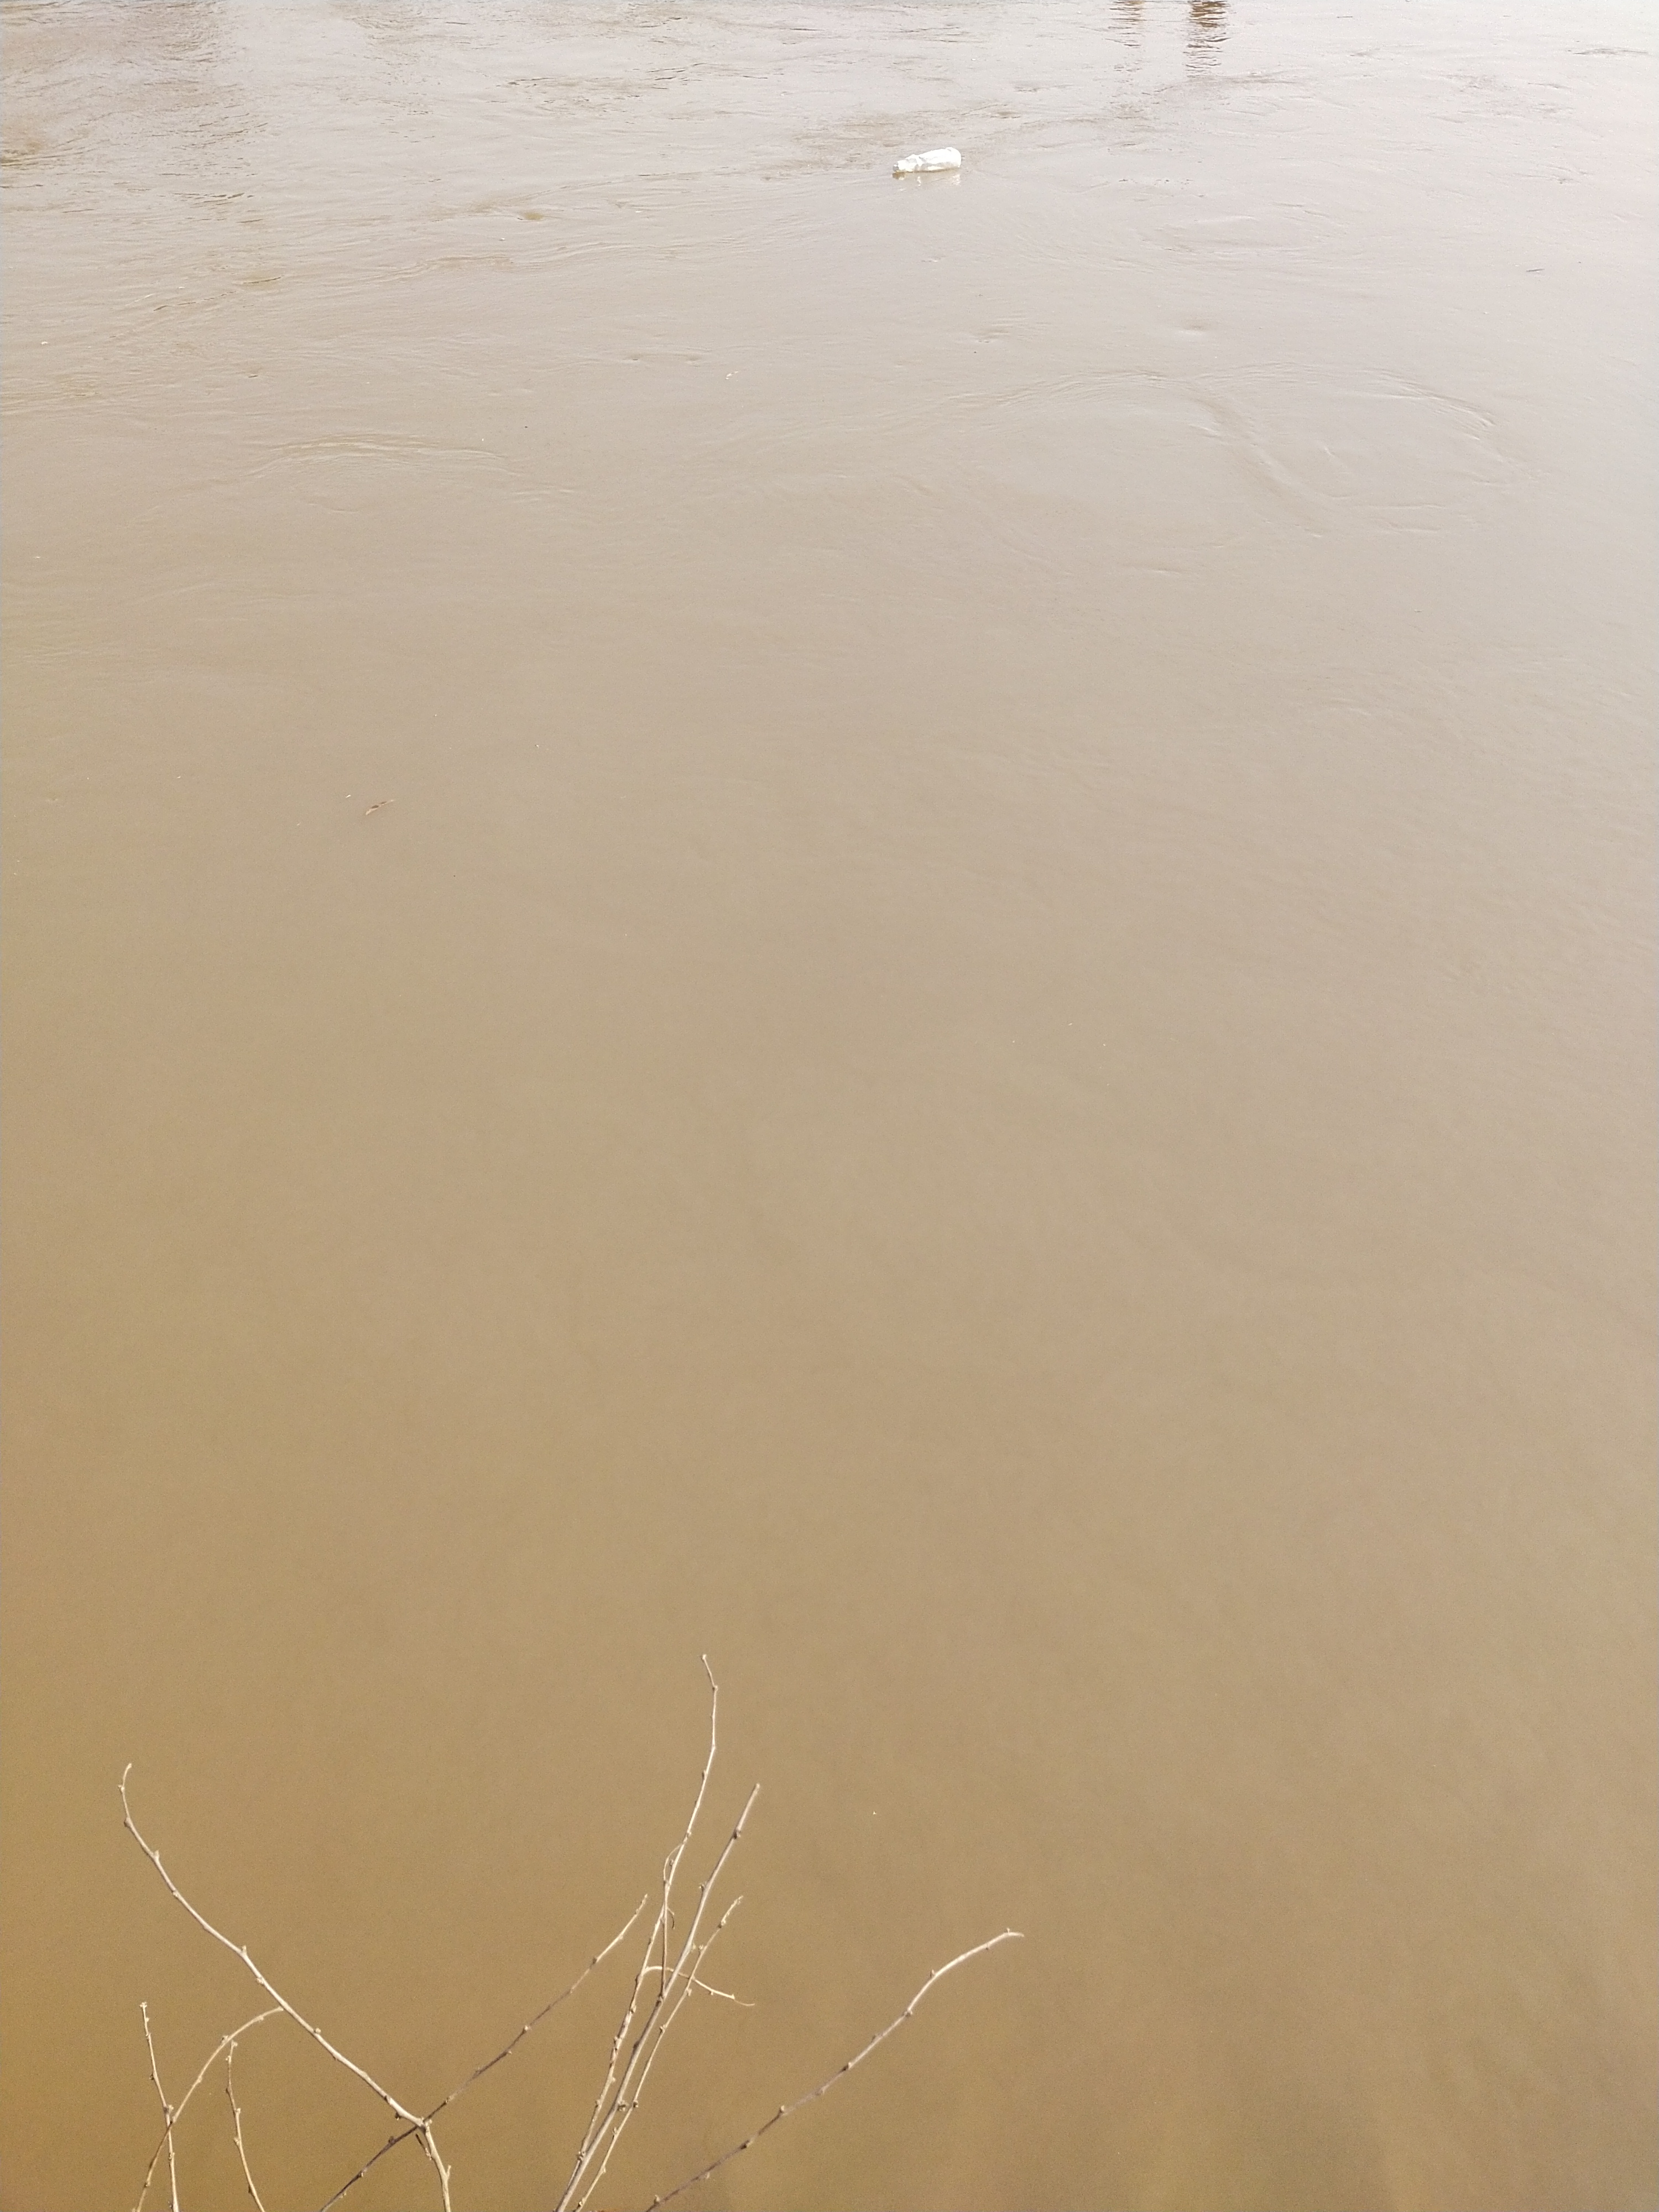Plastic Bottle: (892, 148, 962, 171)
